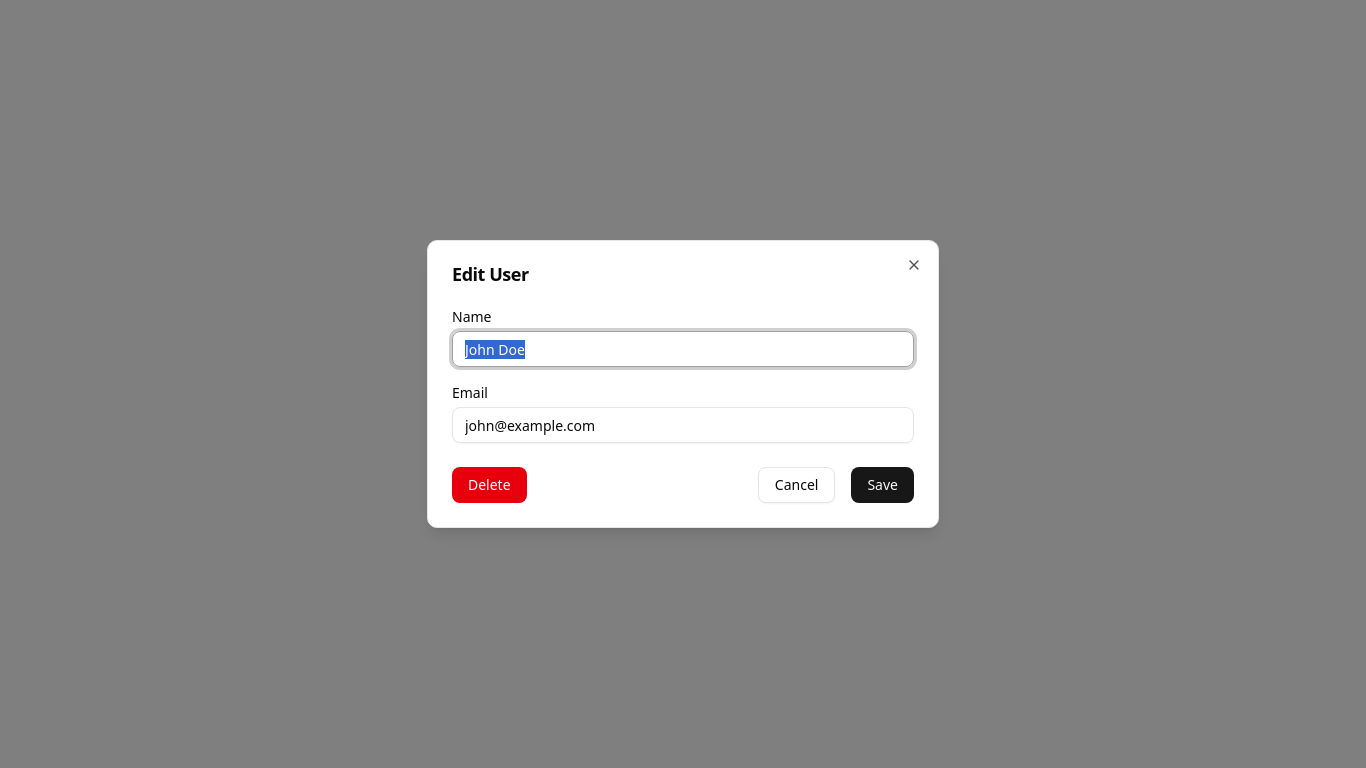
Test: US3: EditUserDialog コンポーネント › バリデーション › 名前が空の場合にエラーが表示されること
The width and height of the screenshot is (1366, 768).
Clear the field labelled "Name" at (683, 349), box [452,331,914,367]
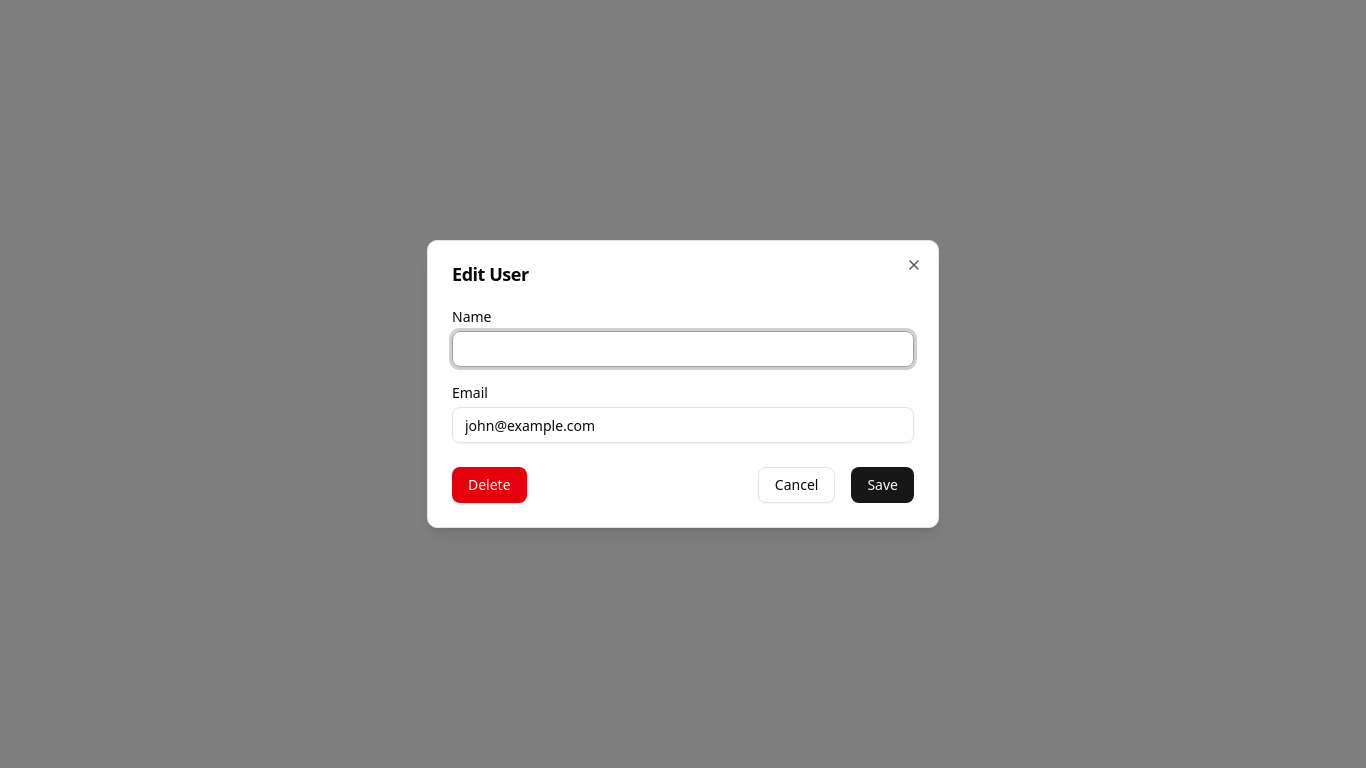
Click the button "Save".
click(883, 485)  # box [851,467,914,503]
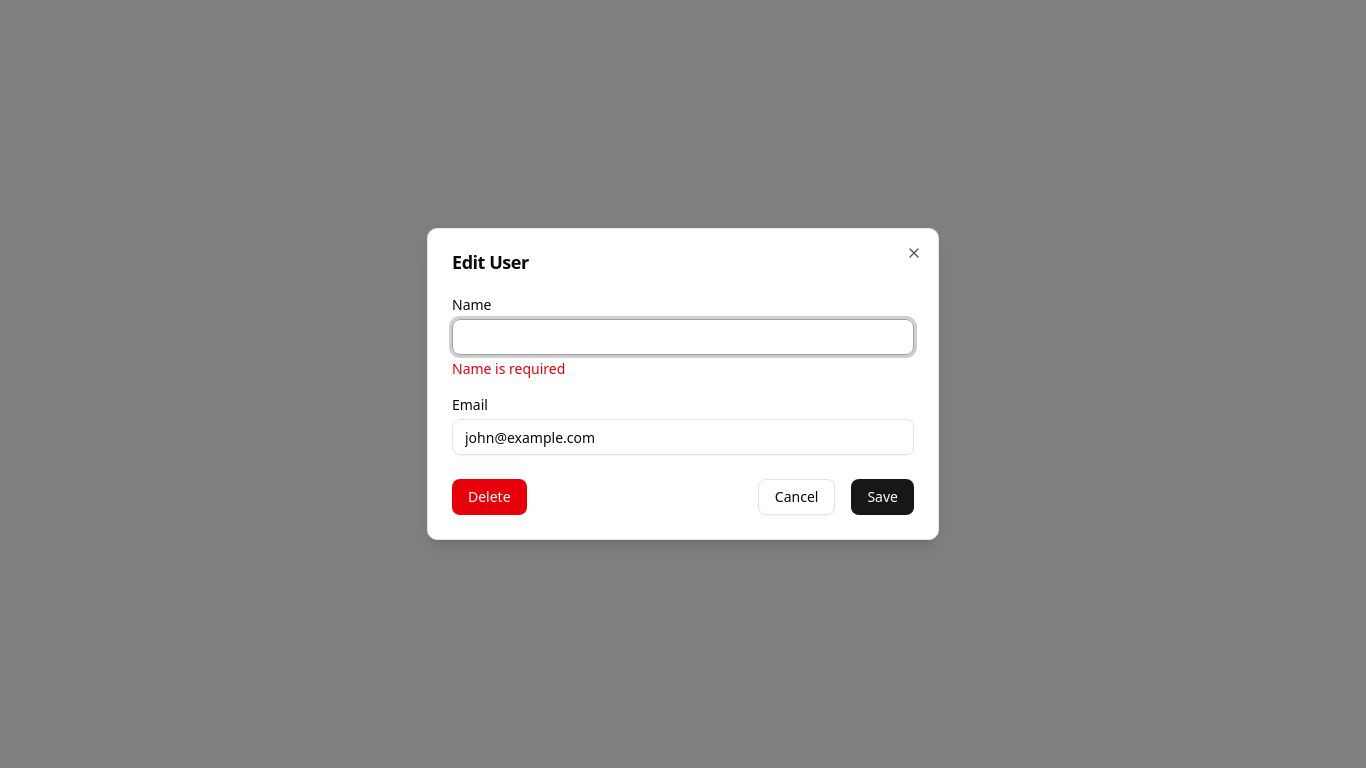
Expected: the text "Name is required" is shown, [452,359,565,378]
